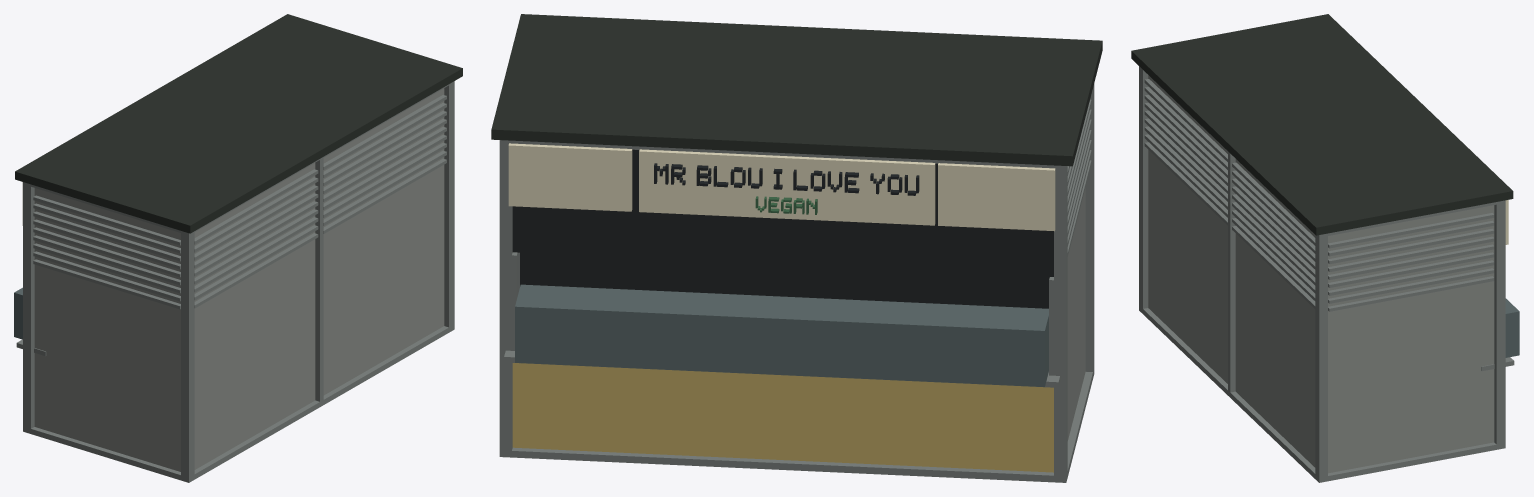
Rendered from kiosk-mr-blou.glb.
3 views of the same model, side by side, from view 1: azimuth 30°, elevation 25°; view 2: azimuth 150°, elevation 25°; view 3: azimuth 270°, elevation 25° (orthographic). The views are drawn at different scales.
Parts seen in each view (by area): view 1: kiosk-mr-blou; view 2: kiosk-mr-blou; view 3: kiosk-mr-blou.
Boxes of the visible parts, bbox=[...] form: kiosk-mr-blou: bbox=[14, 14, 462, 482]; kiosk-mr-blou: bbox=[491, 14, 1102, 482]; kiosk-mr-blou: bbox=[1131, 14, 1519, 482].
Bounding box in the file's own units: 5.21 × 2.94 × 4.
